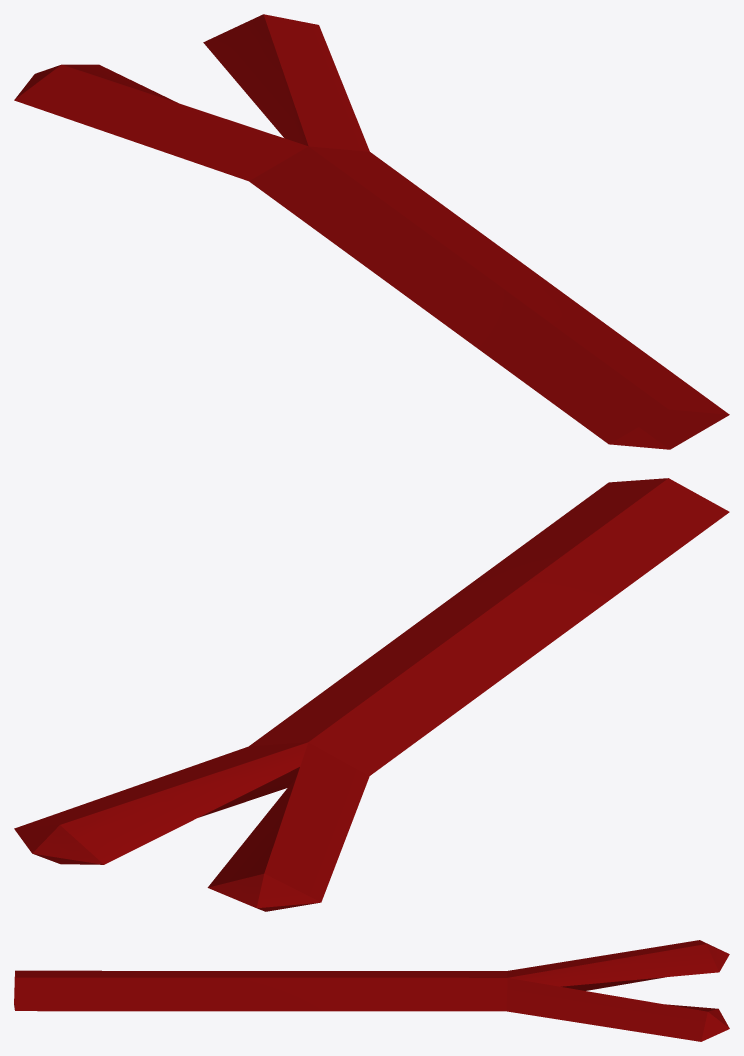
File: headTonge.fbx
The picture shows the model from 3 angles, top to bottom: view 1: azimuth 30°, elevation 25°; view 2: azimuth 150°, elevation 25°; view 3: azimuth 270°, elevation 25°; orthographic projection. The views are drawn at different scales.
Visible parts, largest first — view 1: headTonge; view 2: headTonge; view 3: headTonge.
Boxes of the visible parts, box(x1,y1,x2,y2) form: headTonge: box(14, 14, 729, 449); headTonge: box(14, 478, 729, 911); headTonge: box(14, 940, 729, 1041).
Bounding box in the file's own units: 0.4359 × 0.054 × 1.29.
1 material, 1 textured.
